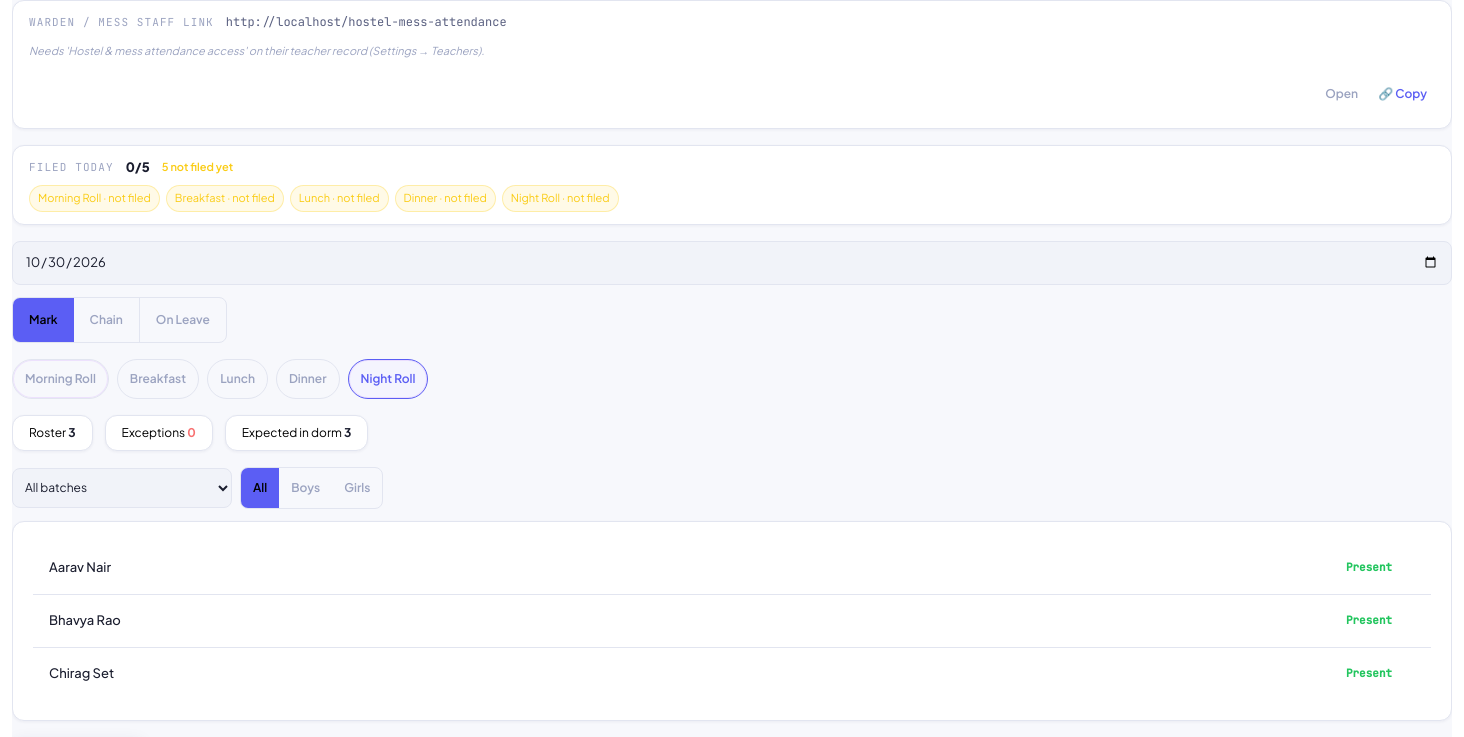
Test: HostelTab — marking-list filters › boys/girls filter narrows the list but not the roster tally
Check: the button with aria-label "Aarav Nair: Present" is shown, box [1323,550,1415,586]
Click the button "Girls": (357,488) [332,468,382,508]
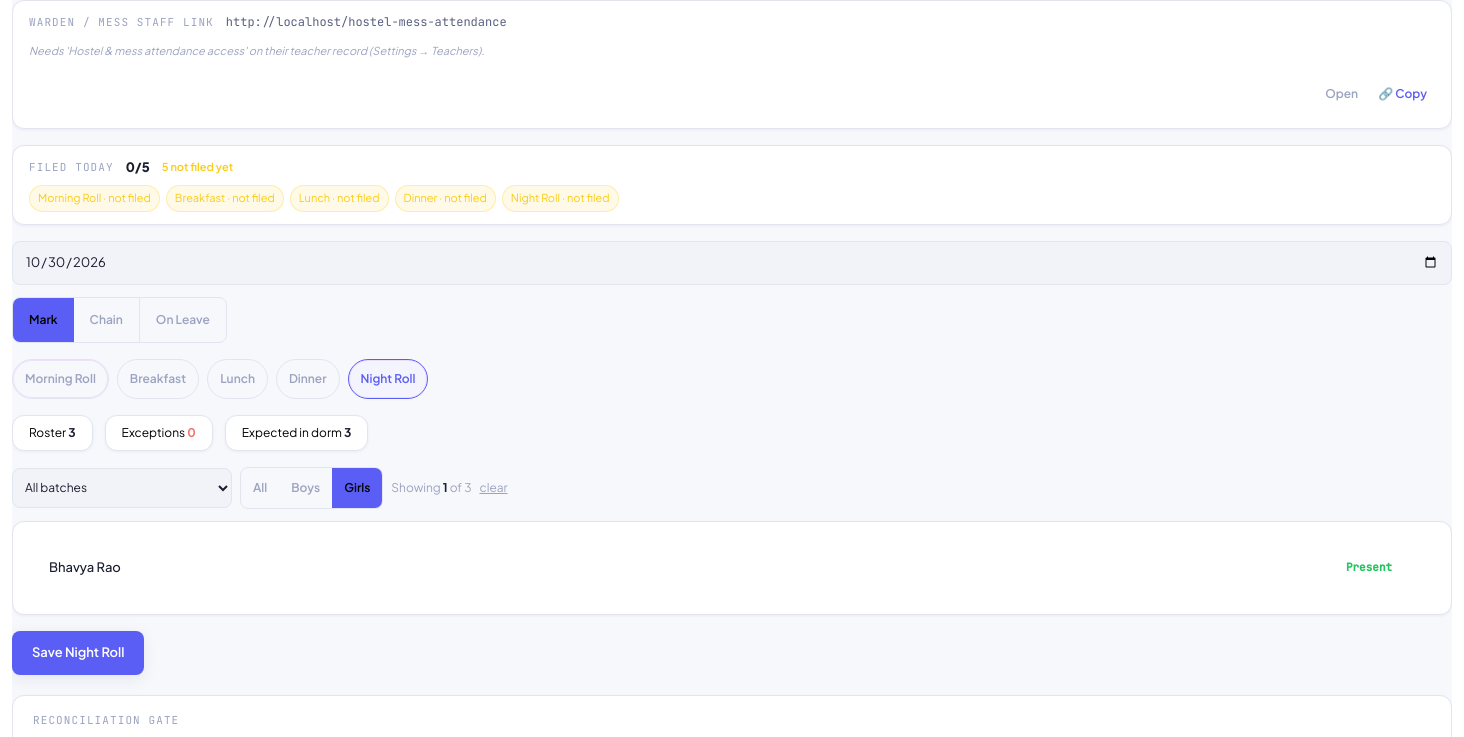
Check: the button with aria-label "Bhavya Rao:" is shown, box [1323,550,1415,586]
Check: the text "Showing 1 of 3 clear" is shown, box [391,478,508,496]
